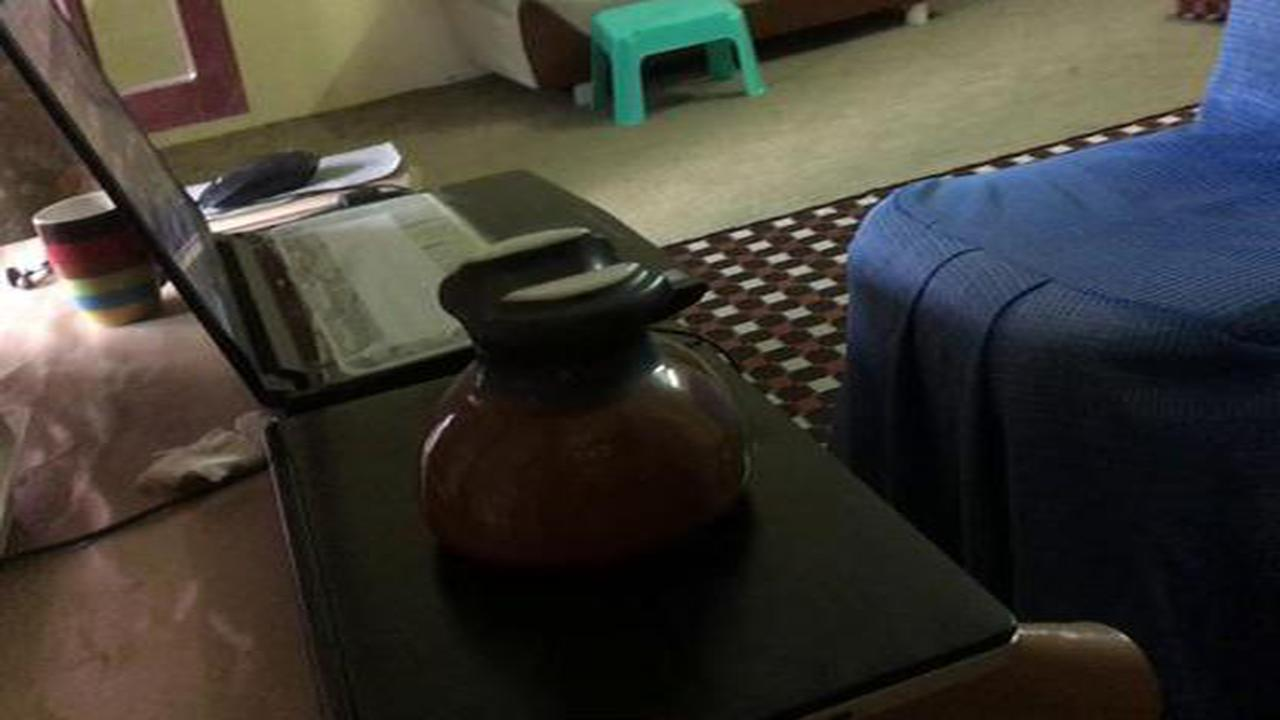insulator_pin: (407, 219, 782, 605)
